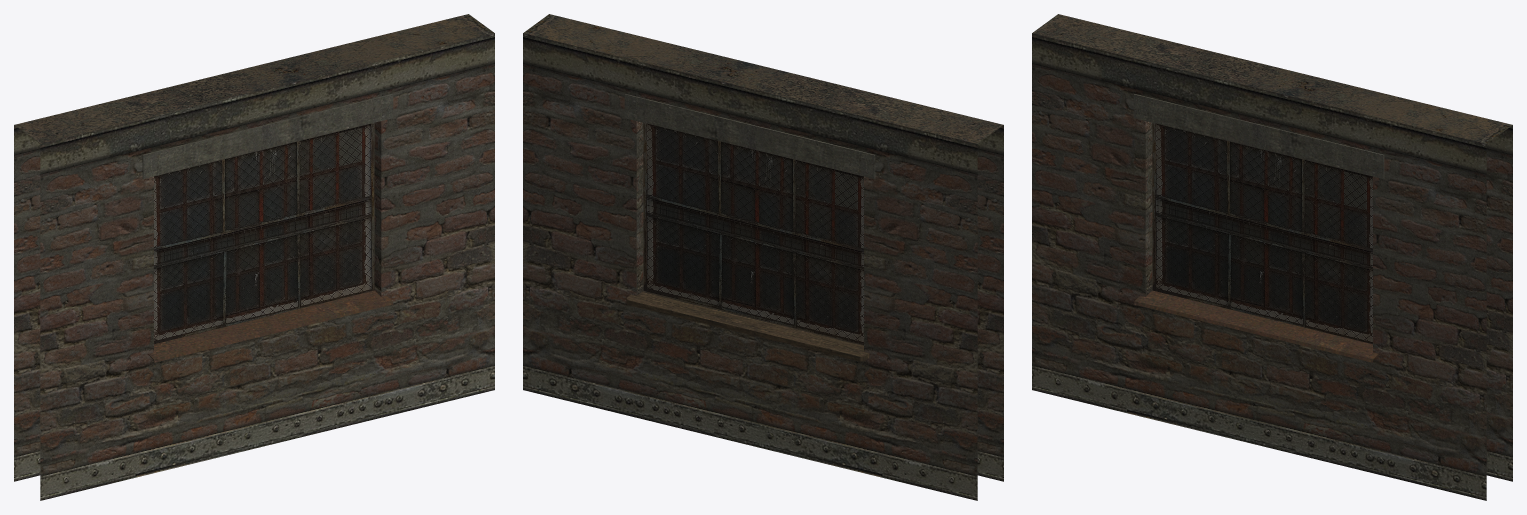
File: window_hr_1.obj
3 views of the same model, side by side, from view 1: azimuth 30°, elevation 25°; view 2: azimuth 150°, elevation 25°; view 3: azimuth 330°, elevation 25° (orthographic).
Visible parts, largest first — view 1: window_hr_1; view 2: window_hr_1; view 3: window_hr_1.
Boxes of the visible parts, x1,y1,x2,y2 form: window_hr_1: (14, 14, 494, 500); window_hr_1: (523, 14, 1003, 500); window_hr_1: (1032, 14, 1512, 500).
Bounding box in the file's own units: 4 × 3 × 0.595.
